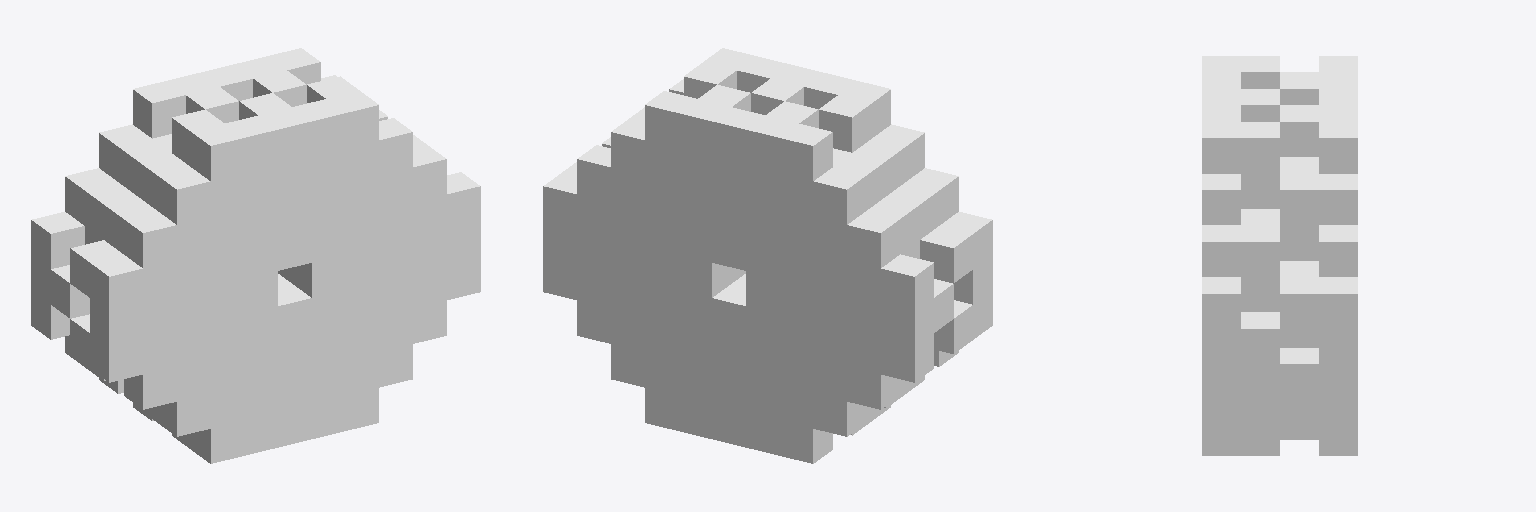
The model's file is wheel.obj.
3 views of the same model, side by side, from view 1: azimuth 30°, elevation 25°; view 2: azimuth 150°, elevation 25°; view 3: azimuth 270°, elevation 25° (orthographic).
Parts seen in each view (by area): view 1: object 1; view 2: object 1; view 3: object 1.
Part boxes in pixels (x1,y1,x2,y2): object 1: (31, 48, 480, 463); object 1: (543, 48, 992, 463); object 1: (1202, 56, 1357, 455).
Size of the model in its own units: 1.1 by 0.9 by 0.4.